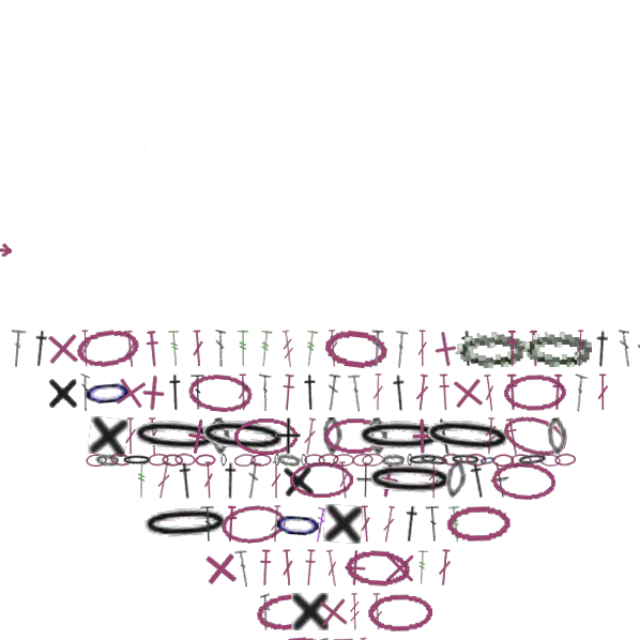chain: (191, 390, 281, 432), (401, 390, 491, 432), (128, 391, 218, 431), (138, 473, 227, 512), (348, 433, 437, 470), (475, 386, 542, 435), (339, 393, 427, 429), (78, 307, 142, 350), (246, 554, 310, 596), (214, 472, 277, 513), (183, 350, 247, 390), (310, 308, 372, 349), (434, 310, 500, 348), (257, 596, 318, 635), (467, 433, 529, 471), (331, 515, 392, 553), (497, 311, 562, 346), (425, 474, 486, 511), (352, 557, 413, 593), (479, 352, 539, 388), (279, 434, 339, 469), (227, 393, 287, 428), (301, 598, 359, 634), (311, 393, 370, 428), (84, 350, 135, 389), (262, 474, 313, 512), (423, 433, 446, 470), (204, 393, 225, 429), (519, 393, 540, 429), (352, 393, 372, 429), (310, 393, 329, 428), (399, 425, 430, 441), (491, 425, 522, 440), (389, 426, 419, 439), (429, 426, 459, 439), (122, 427, 152, 439), (267, 425, 290, 440), (111, 425, 132, 440), (227, 426, 249, 440), (512, 426, 533, 440), (98, 426, 120, 439), (365, 426, 387, 439), (347, 426, 368, 439), (147, 426, 167, 439), (172, 426, 192, 439), (306, 426, 326, 439), (338, 426, 358, 439), (421, 426, 441, 439), (444, 426, 464, 439), (527, 426, 547, 439), (89, 427, 109, 439), (160, 427, 180, 439), (191, 427, 211, 439), (243, 427, 263, 439), (293, 427, 313, 439), (320, 427, 340, 439), (469, 427, 489, 439), (486, 427, 506, 439), (456, 426, 473, 440), (321, 631, 343, 640), (350, 631, 371, 640), (288, 631, 305, 640), (270, 631, 286, 640), (304, 631, 320, 640), (215, 427, 221, 439), (265, 427, 271, 439), (290, 427, 296, 439), (389, 427, 395, 439), (345, 632, 351, 640)
double: (153, 434, 171, 470), (227, 516, 244, 552), (311, 516, 328, 552), (300, 475, 317, 511), (237, 434, 254, 470), (290, 393, 307, 429), (542, 352, 559, 388), (17, 311, 34, 347), (374, 311, 391, 347), (364, 475, 380, 511), (312, 352, 328, 388), (333, 352, 349, 388), (406, 475, 422, 510), (343, 598, 358, 634), (396, 352, 411, 388), (459, 352, 474, 388), (123, 311, 138, 347), (417, 516, 432, 551), (196, 475, 211, 510), (302, 598, 316, 633), (271, 516, 285, 551), (260, 475, 274, 510), (323, 434, 337, 469), (145, 393, 159, 428), (187, 352, 201, 387), (187, 311, 201, 346), (313, 311, 327, 346), (344, 475, 357, 510), (250, 352, 263, 387), (355, 311, 368, 346), (198, 434, 210, 469), (261, 434, 273, 469), (125, 393, 137, 428), (230, 352, 242, 387), (356, 352, 368, 387), (566, 352, 578, 387), (83, 311, 95, 346), (545, 311, 557, 346), (587, 311, 599, 346), (209, 311, 220, 346), (398, 311, 409, 346), (252, 557, 262, 592), (84, 352, 93, 387)
half_double: (412, 392, 437, 429), (381, 474, 405, 511), (444, 433, 468, 470), (35, 310, 59, 347), (560, 311, 583, 347), (172, 434, 194, 470), (214, 434, 235, 470), (372, 352, 393, 388), (163, 352, 183, 387), (289, 352, 309, 387), (436, 311, 456, 346), (479, 393, 497, 429), (143, 311, 160, 347), (270, 352, 286, 388), (291, 516, 306, 551), (217, 475, 232, 510), (417, 352, 432, 387), (480, 352, 495, 387), (501, 311, 516, 346), (250, 516, 264, 551), (523, 352, 537, 387), (481, 311, 494, 346)
noise: (0, 229, 22, 243), (628, 472, 640, 484)
single: (174, 391, 214, 431), (111, 350, 151, 390), (405, 309, 445, 349), (352, 432, 391, 471), (301, 556, 339, 594), (196, 515, 234, 553), (91, 392, 129, 430), (133, 351, 171, 389), (427, 351, 465, 389), (322, 515, 359, 552), (311, 474, 348, 511), (49, 310, 86, 347), (271, 433, 305, 470), (281, 557, 316, 592), (365, 516, 400, 551), (386, 393, 421, 428), (52, 352, 84, 387), (264, 393, 291, 428), (465, 433, 488, 470), (602, 310, 625, 347), (342, 434, 360, 469)
treble: (270, 311, 286, 347), (291, 311, 307, 347), (427, 475, 442, 511), (249, 311, 264, 347), (165, 311, 180, 346), (460, 393, 474, 428), (355, 557, 368, 592), (397, 516, 410, 551), (135, 434, 147, 469), (408, 434, 420, 469), (230, 311, 242, 346), (335, 557, 346, 592)
